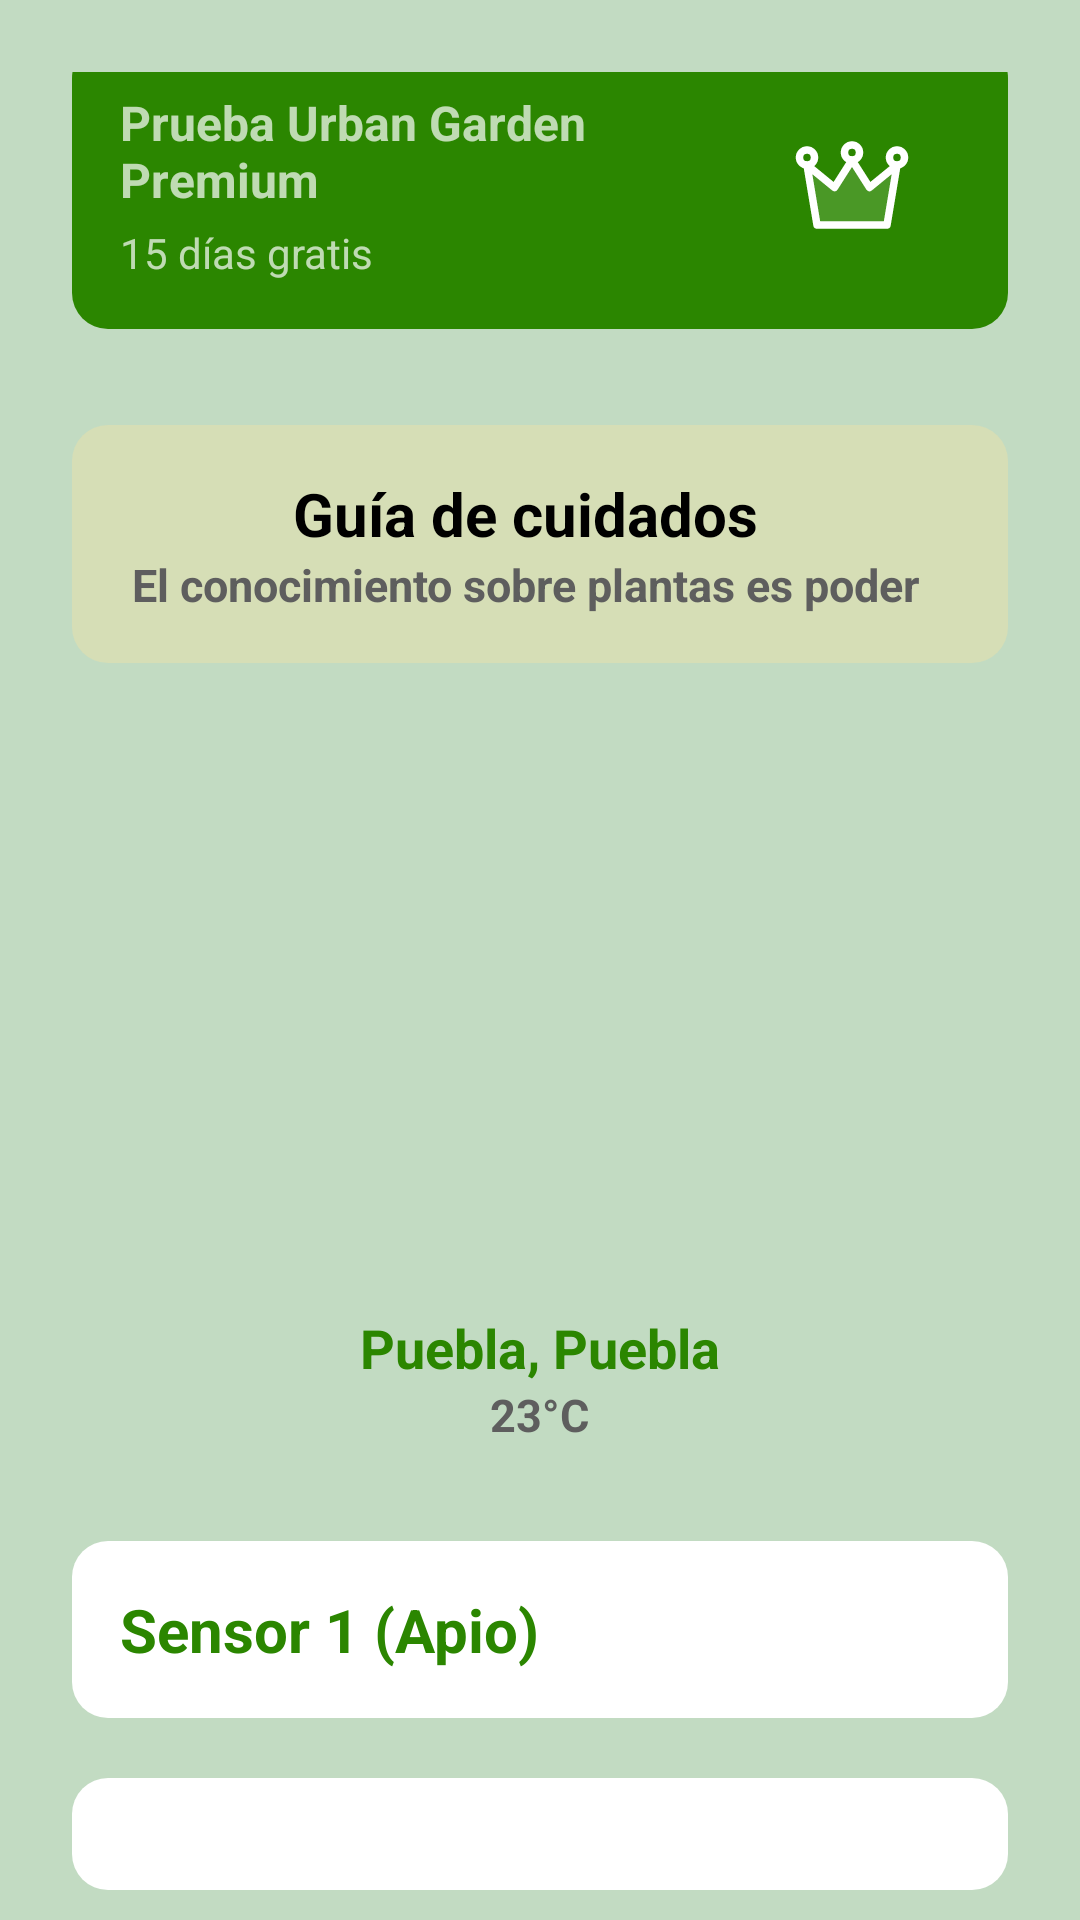

Where icons sit on this 1080 × 1920 app screen, as {"x1": x1, "y1": y1, "x2": x2, "y2": y2}:
home corona: {"x1": 795, "y1": 141, "x2": 909, "y2": 229}
